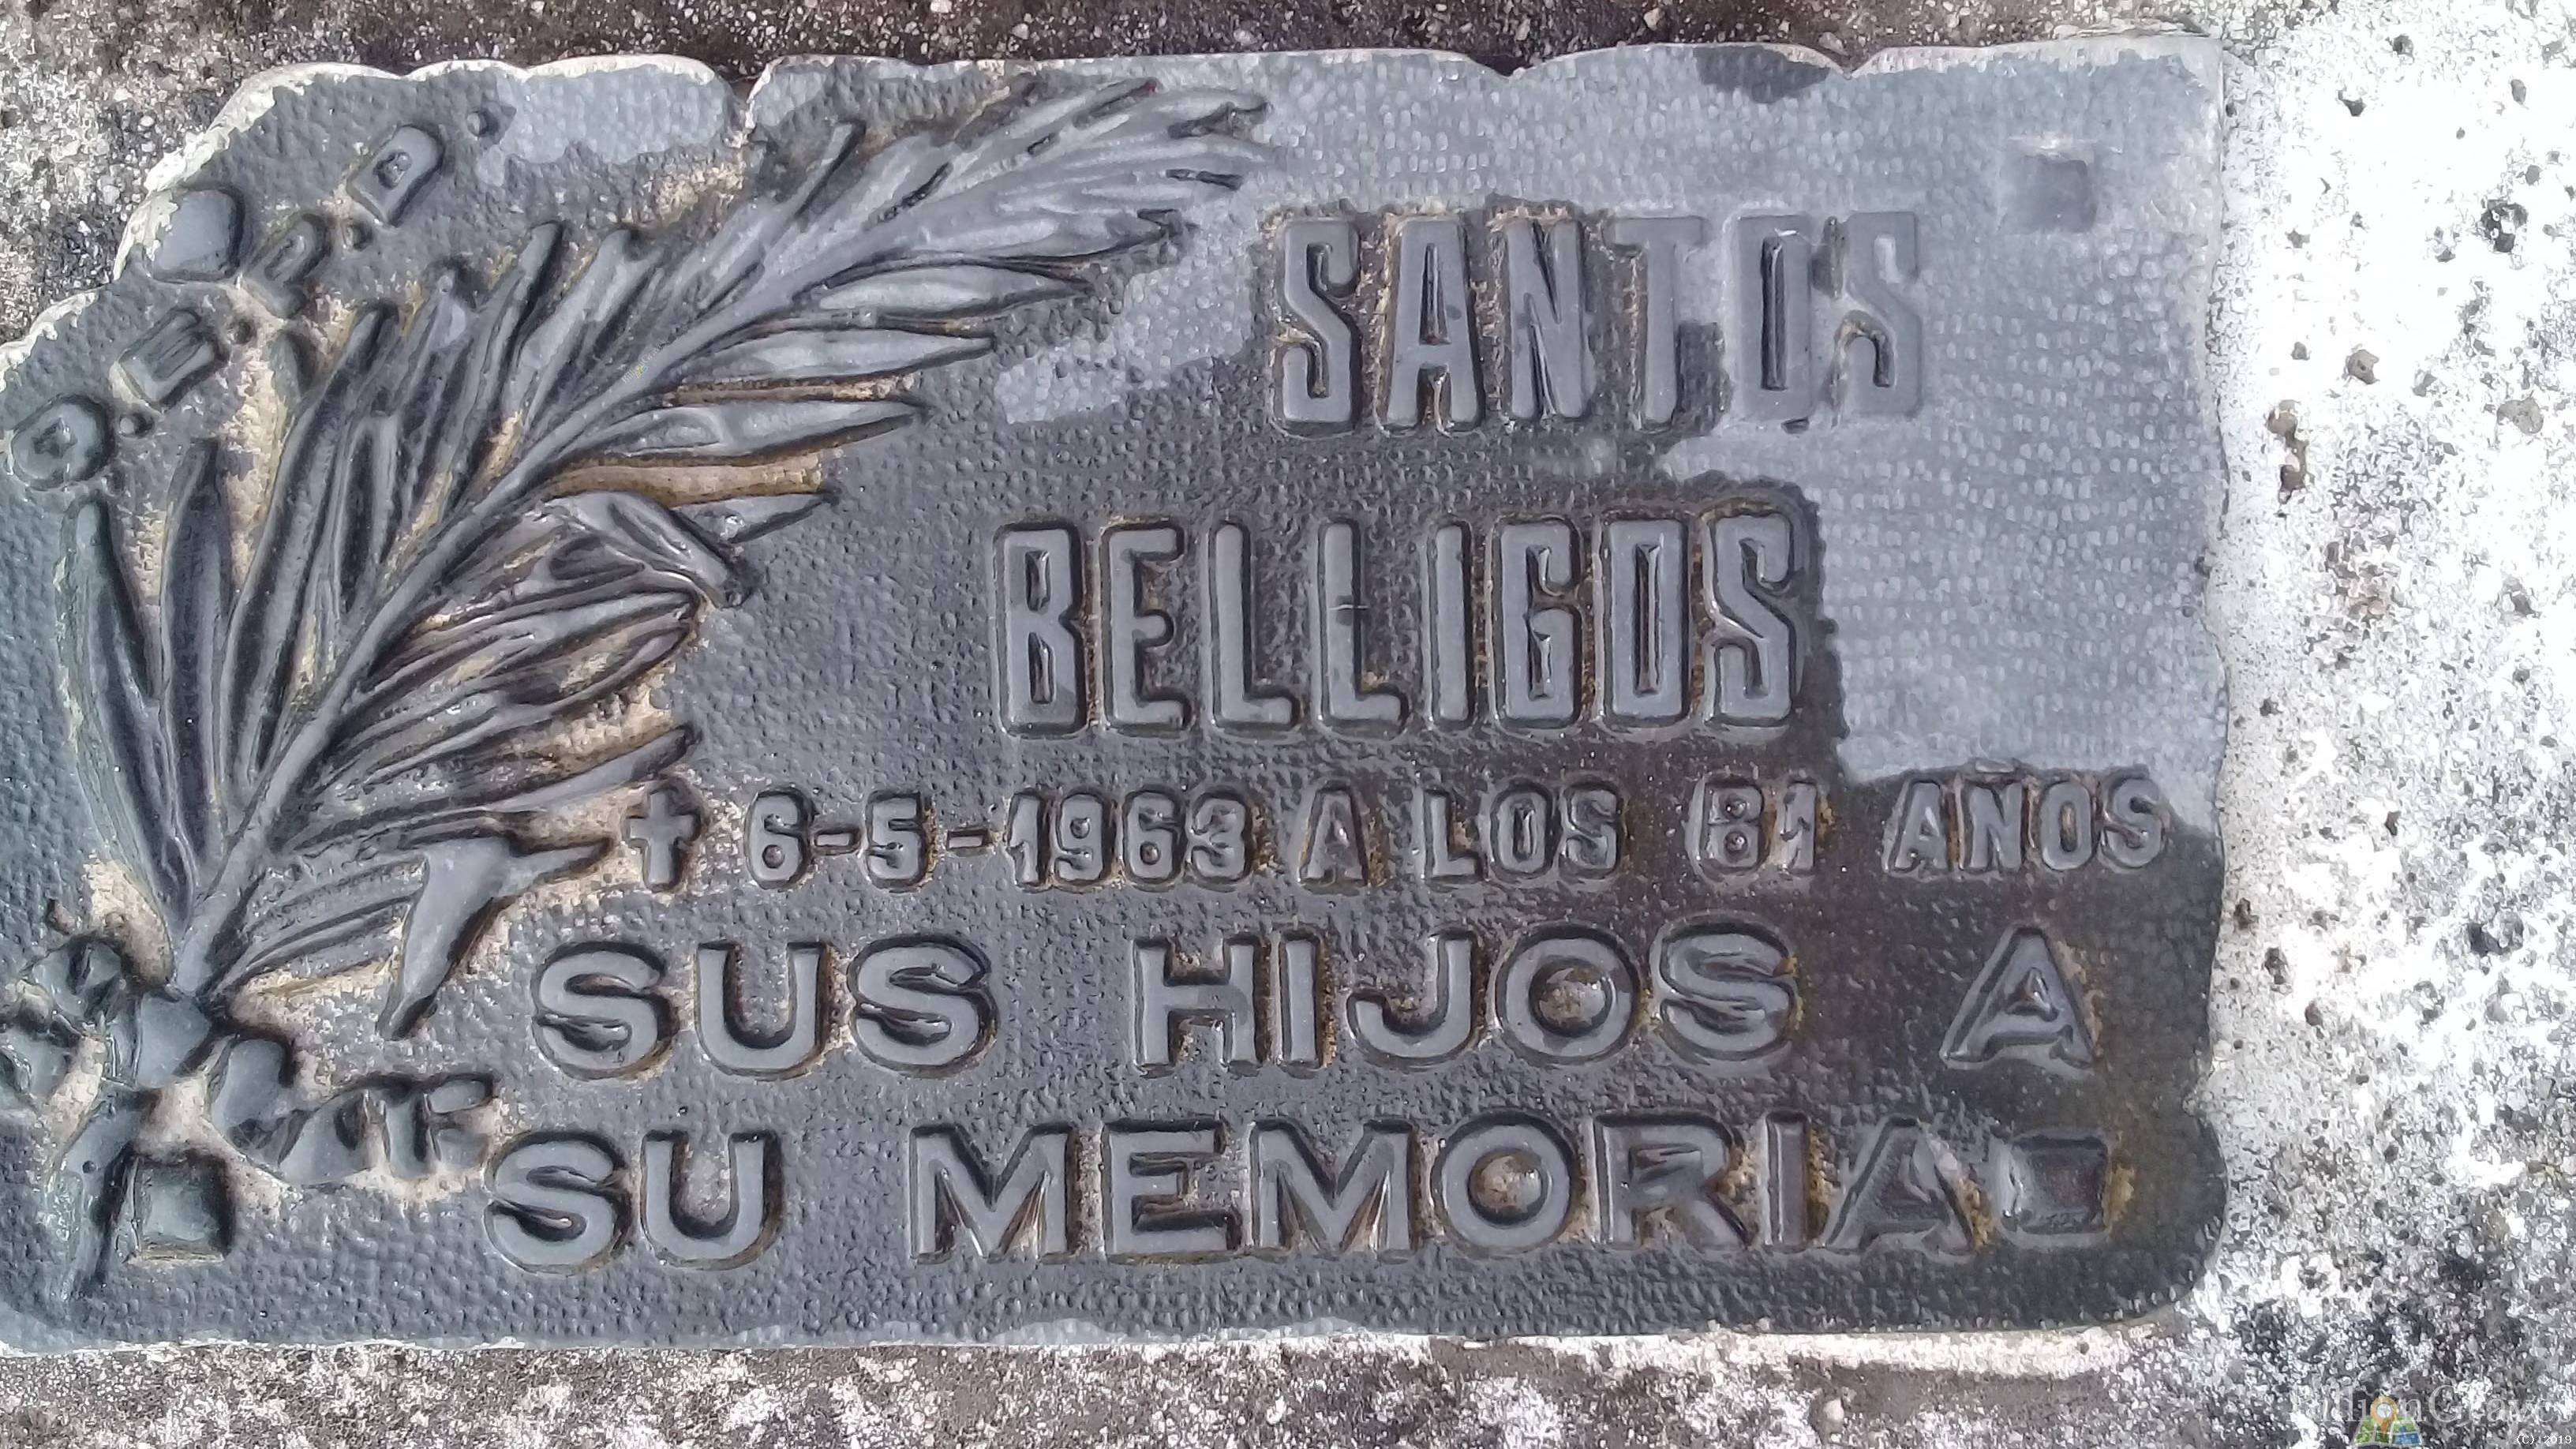flat: (0, 0, 2261, 1375)
